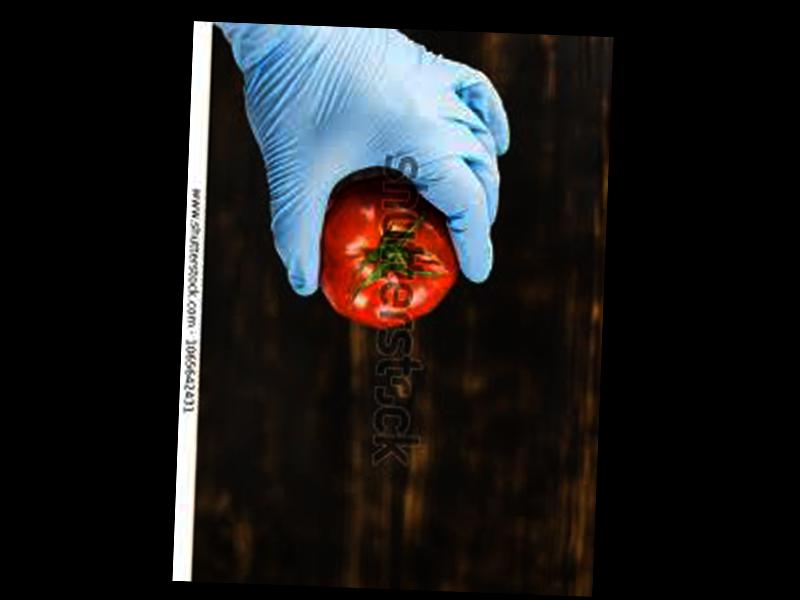Tomato: (316, 173, 462, 333)
